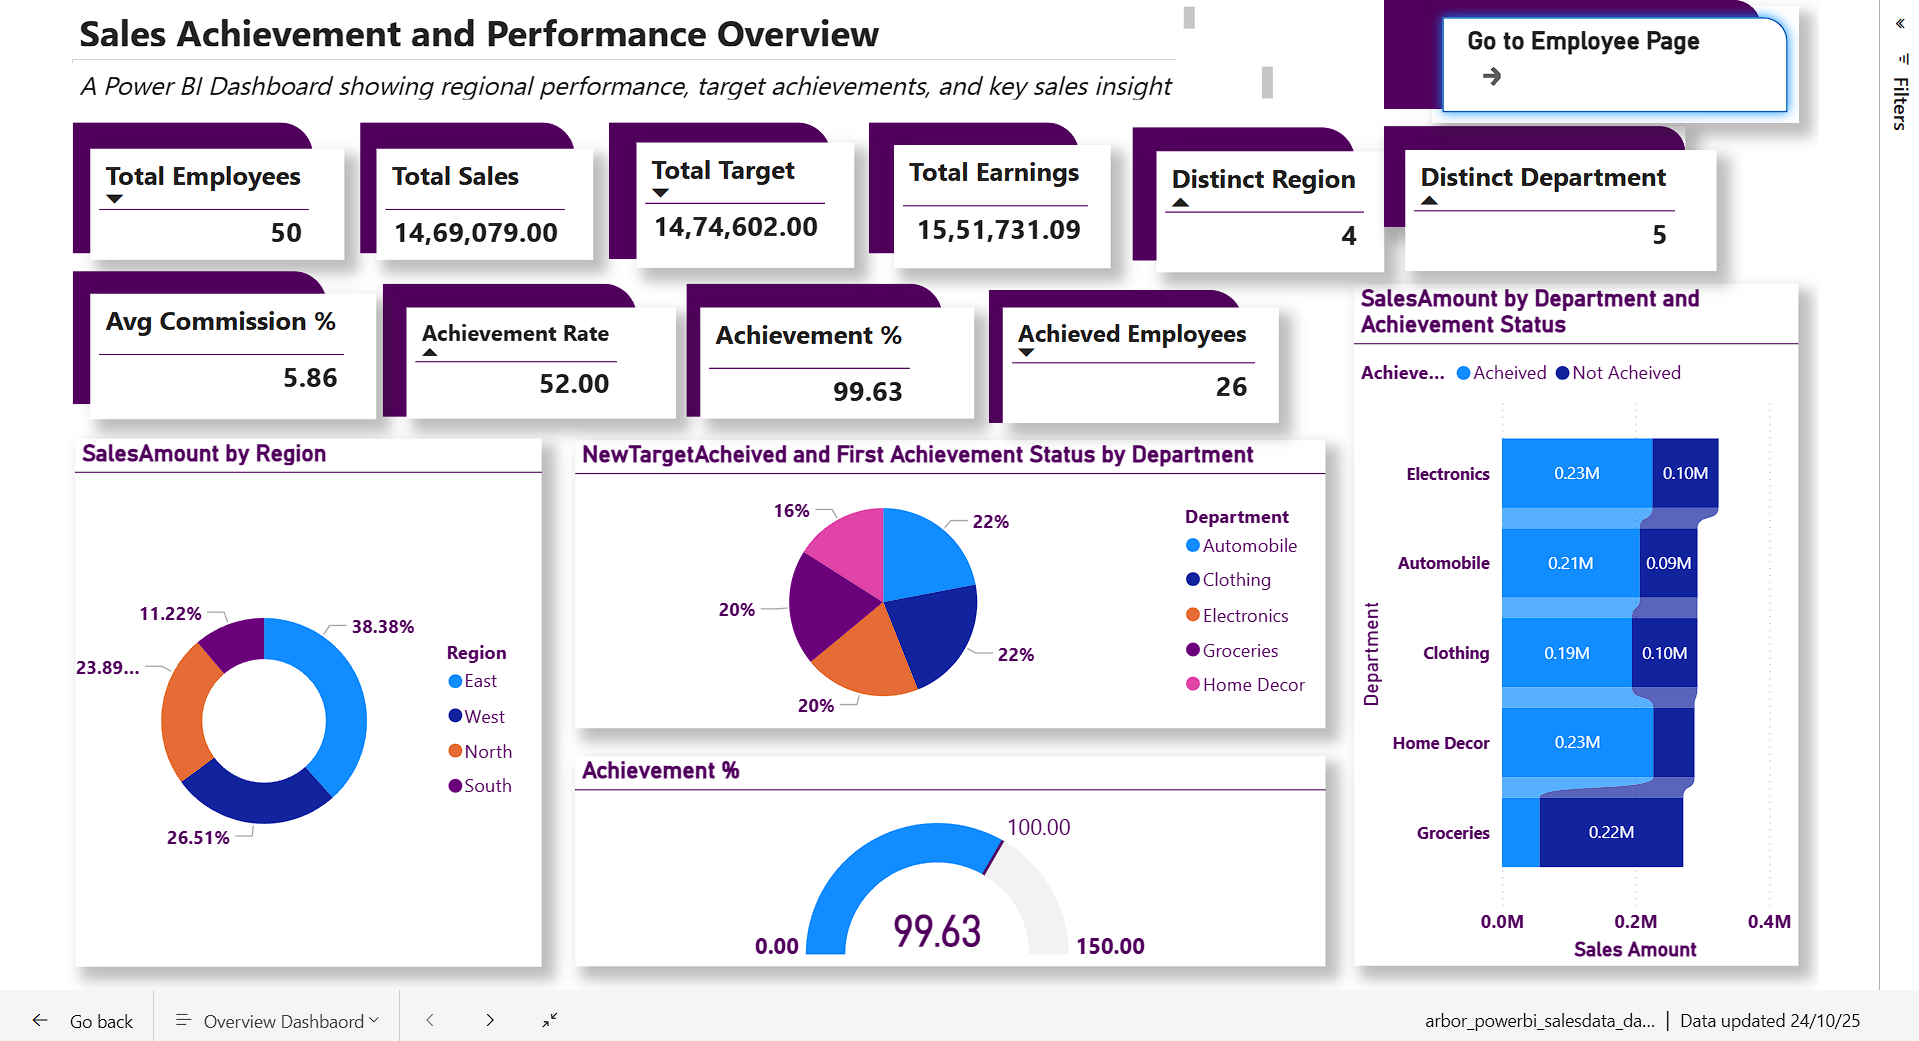

The page's visual inventory and layout, read from the dashboard file:
{"tool":"powerbi","page":{"name":"Overview Dashbaord","canvas":[1280,720],"ordinal":0},"visuals":[{"type":"textbox","box":[10,0,820.6,38.4],"z":0},{"type":"shape","box":[10,34.1,802.1,19.9],"z":1000},{"type":"textbox","box":[10,44.1,877.5,34.1],"z":2000},{"type":"shape","box":[10.1,89.5,174.6,95.2],"z":3000},{"type":"tableEx","fields":{"Values":["sales_data(1).Total Employees"]},"box":[23.1,108.2,184.7,80.8],"z":4000},{"type":"barChart","title":"SalesAmount by Department and Achievement Status","fields":{"Category":["sales_data(1).Department"],"Y":["Sum(sales_data(1).SalesAmount)"],"Series":["sales_data(1).Achievement Status"]},"box":[942.1,206.3,323.2,496.3],"z":5000},{"type":"shape","box":[219.3,89.5,155.8,95.2],"z":6000},{"type":"pieChart","title":"NewTargetAcheived and First Achievement Status by Department","fields":{"Y":["CountNonNull(sales_data(1).NewTargetAcheived)"],"Category":["sales_data(1).Department"]},"box":[375.1,320.3,545.4,209.2],"z":7000},{"type":"tableEx","fields":{"Values":["sales_data(1).Total Sales"]},"box":[230.8,108.2,157.3,80.8],"z":8000},{"type":"shape","box":[235.2,206.3,184.7,96.7],"z":9000},{"type":"shape","box":[455.9,206.3,186.1,96.7],"z":10000},{"type":"shape","box":[10.1,197.7,184.7,96.7],"z":11000},{"type":"shape","box":[676.7,210.6,184.7,96.7],"z":12000},{"type":"shape","box":[780.5,92.3,161.6,96.7],"z":13000},{"type":"shape","box":[588.6,89.5,152.9,95.2],"z":14000},{"type":"shape","box":[399.6,89.5,161.6,99.6],"z":15000},{"type":"tableEx","fields":{"Values":["sales_data(1).Total Target"]},"box":[419.8,103.9,158.7,90.9],"z":16000},{"type":"tableEx","fields":{"Values":["sales_data(1).Total Earnings"]},"box":[607.4,105.3,157.3,89.5],"z":17000},{"type":"tableEx","fields":{"Values":["sales_data(1).Distinct Region"]},"box":[797.8,109.6,165.9,88],"z":18000},{"type":"shape","box":[964.1,92.1,218.9,73.4],"z":19000},{"type":"tableEx","fields":{"Values":["sales_data(1).Distinct Department"]},"box":[979,109.5,226.4,88.3],"z":20000},{"type":"tableEx","fields":{"Values":["sales_data(1).Avg Commission %"]},"box":[23.1,213.5,207.8,90.9],"z":21000},{"type":"tableEx","fields":{"Values":["sales_data(1).Achievement Rate"]},"box":[252.5,223.6,196.2,80.8],"z":22000},{"type":"tableEx","fields":{"Values":["sales_data(1).Achievement %"]},"box":[466,223.6,199.1,80.8],"z":23000},{"type":"tableEx","fields":{"Values":["sales_data(1).Achieved Employees"]},"box":[686.8,223.6,200.5,83.7],"z":24000},{"type":"donutChart","title":"SalesAmount by Region","fields":{"Y":["Sum(sales_data(1).SalesAmount)"],"Category":["sales_data(1).Region"]},"box":[11.5,318.9,339,383.8],"z":25000},{"type":"gauge","fields":{"Y":["sales_data(1).Achievement %"]},"box":[375.1,549.7,545.4,152.9],"z":26000},{"type":"shape","box":[963.8,0,274.1,79.4],"z":27000},{"type":"shape","box":[998.4,4.3,266.9,85.1],"z":28000},{"type":"actionButton","title":"Go to Employee Page","box":[1024.4,18.8,194.8,47.6],"z":29000}]}

Visuals, with their boxes in screenshot pixels (x1, y1, x2, y2):
textbox: BBox(69, 20, 1196, 73)
shape: BBox(69, 67, 1170, 94)
textbox: BBox(69, 81, 1274, 127)
shape: BBox(69, 143, 309, 274)
tableEx - sales_data(1).Total Employees: BBox(87, 169, 340, 280)
"SalesAmount by Department and Achievement Status" barChart: BBox(1349, 303, 1793, 985)
shape: BBox(356, 143, 570, 274)
"NewTargetAcheived and First Achievement Status by Department" pieChart: BBox(570, 460, 1319, 747)
tableEx - sales_data(1).Total Sales: BBox(372, 169, 588, 280)
shape: BBox(378, 303, 632, 436)
shape: BBox(681, 303, 937, 436)
shape: BBox(69, 291, 322, 424)
shape: BBox(984, 309, 1238, 442)
shape: BBox(1127, 147, 1349, 280)
shape: BBox(863, 143, 1073, 274)
shape: BBox(604, 143, 826, 280)
tableEx - sales_data(1).Total Target: BBox(631, 163, 849, 288)
tableEx - sales_data(1).Total Earnings: BBox(889, 165, 1105, 288)
tableEx - sales_data(1).Distinct Region: BBox(1151, 170, 1378, 291)
shape: BBox(1379, 146, 1680, 247)
tableEx - sales_data(1).Distinct Department: BBox(1399, 170, 1710, 292)
tableEx - sales_data(1).Avg Commission %: BBox(87, 313, 372, 438)
tableEx - sales_data(1).Achievement Rate: BBox(402, 327, 671, 438)
tableEx - sales_data(1).Achievement %: BBox(695, 327, 968, 438)
tableEx - sales_data(1).Achieved Employees: BBox(998, 327, 1273, 442)
"SalesAmount by Region" donutChart: BBox(71, 458, 536, 985)
gauge - sales_data(1).Achievement %: BBox(570, 775, 1319, 985)
shape: BBox(1379, 20, 1755, 129)
shape: BBox(1426, 26, 1793, 143)
"Go to Employee Page" actionButton: BBox(1462, 46, 1729, 111)
